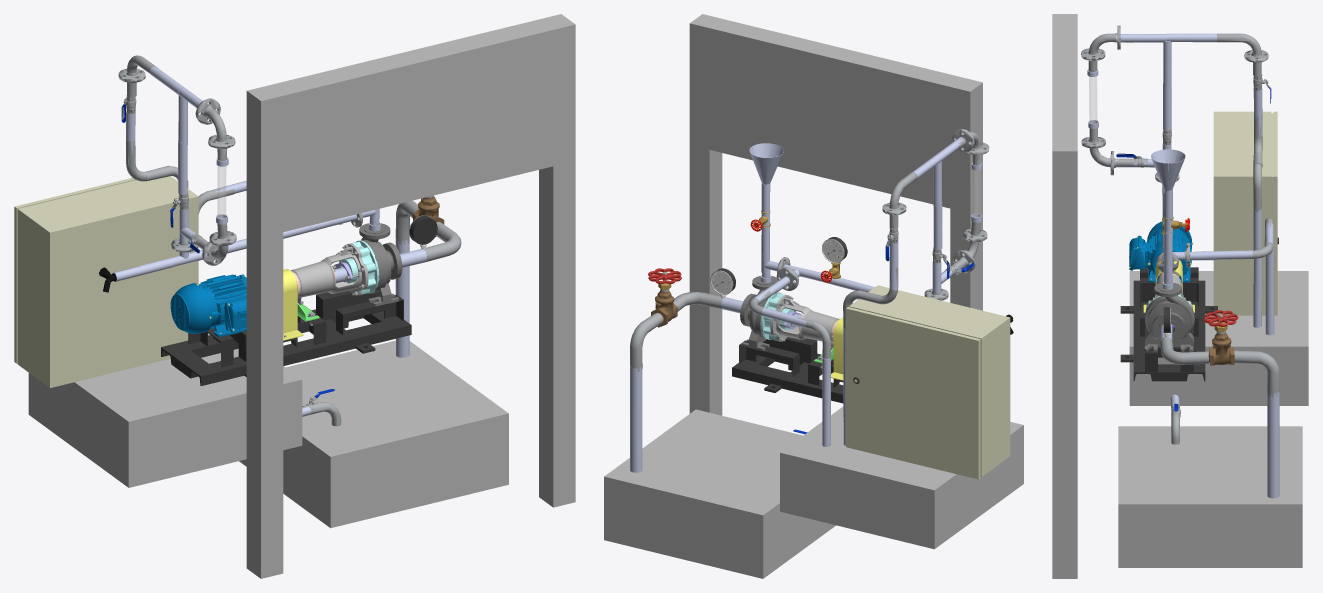
Rendered from bomba-mecmonitor.glb.
The picture shows the model from 3 angles, left to right: view 1: azimuth 30°, elevation 25°; view 2: azimuth 150°, elevation 25°; view 3: azimuth 270°, elevation 25°; orthographic projection. The views are drawn at different scales.
Parts seen in each view (by area): view 1: reservatorio.stp-1, CEMAR-1, Base-1, hex nut gradec_din-9, Seal chamber-1, Motor teste-2, House Bearing-1, INGAPOOL manometro-1, PUMP PROTECTION-1, coupling-1; view 2: reservatorio.stp-1, CEMAR-1, Seal chamber-1, hex nut gradec_din-9, Base-1, House Bearing-1, INGAPOOL manometro-1, Peça 4-1, PUMP PROTECTION-1, Peça 8-1, coupling-1; view 3: reservatorio.stp-1, CEMAR-1, Seal chamber-1, hex nut gradec_din-9, Base-1, INGAPOOL manometro-1, Motor teste-2, Peça 8-1, Peça 10-3, TuboVisorLiquido2-1.
Part boxes in pixels (x1,y1,x2,y2): reservatorio.stp-1: (28, 14, 575, 578); CEMAR-1: (14, 176, 198, 387); Base-1: (161, 215, 437, 386); hex nut gradec_din-9: (118, 55, 461, 426); Seal chamber-1: (112, 67, 427, 416); Motor teste-2: (170, 274, 246, 336); House Bearing-1: (291, 243, 368, 304); INGAPOOL manometro-1: (359, 223, 402, 306); PUMP PROTECTION-1: (283, 269, 303, 340); coupling-1: (341, 240, 379, 294); reservatorio.stp-1: (604, 14, 1023, 578); CEMAR-1: (846, 285, 1010, 479); Seal chamber-1: (630, 137, 982, 472); hex nut gradec_din-9: (630, 129, 989, 371); Base-1: (717, 237, 859, 403); House Bearing-1: (770, 295, 839, 349); INGAPOOL manometro-1: (713, 242, 841, 350); Peça 4-1: (711, 239, 843, 298); PUMP PROTECTION-1: (831, 317, 843, 380); Peça 8-1: (651, 290, 677, 327); coupling-1: (760, 292, 794, 340); reservatorio.stp-1: (1052, 14, 1308, 578); CEMAR-1: (1213, 111, 1277, 315); Seal chamber-1: (1087, 33, 1279, 498); hex nut gradec_din-9: (1081, 25, 1279, 444); Base-1: (1120, 194, 1278, 381); INGAPOOL manometro-1: (1144, 282, 1194, 351); Motor teste-2: (1129, 220, 1193, 282); Peça 8-1: (1209, 333, 1234, 365); Peça 10-3: (1203, 310, 1238, 326); TuboVisorLiquido2-1: (1089, 76, 1097, 123).
Size of the model in its own units: 1.76 by 1.85 by 1.
